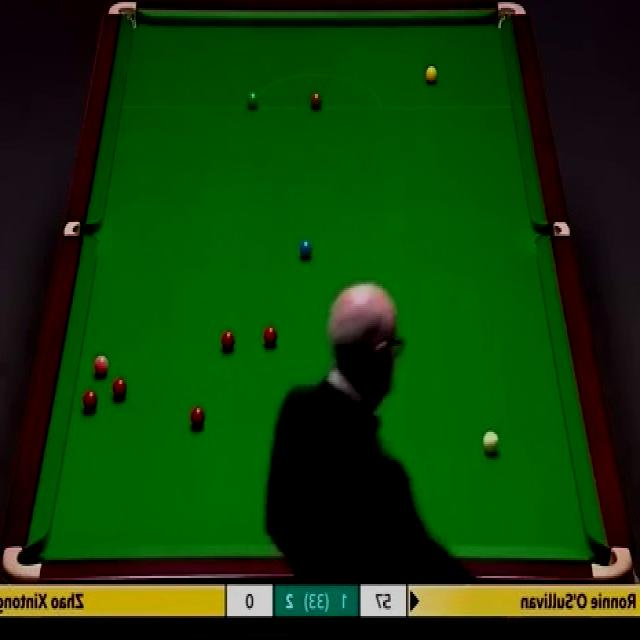blue-ball: (299, 239, 312, 261)
brown-ball: (310, 93, 322, 110)
green-ball: (247, 90, 258, 110)
pink-ball: (92, 353, 109, 378)
red-ball: (189, 405, 207, 430), (220, 327, 235, 352), (264, 325, 278, 349), (112, 378, 127, 399), (83, 391, 96, 413)
white-ball: (484, 429, 501, 456)
yellow-ball: (424, 66, 438, 86)
